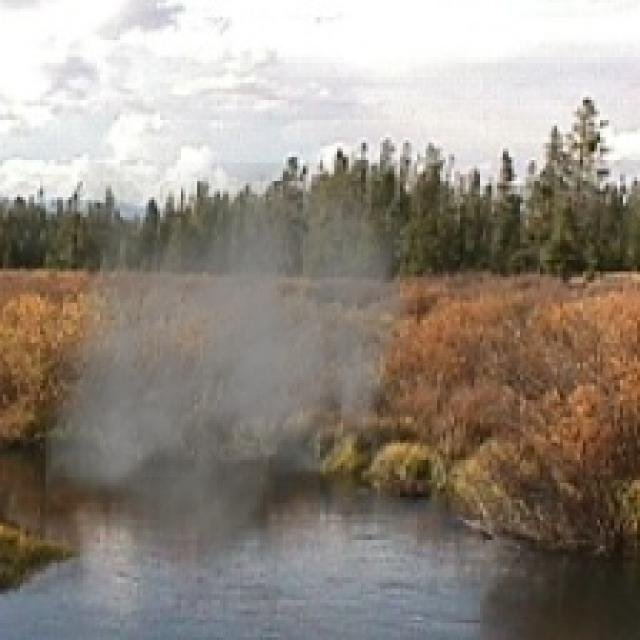smoke: (46, 163, 411, 568)
